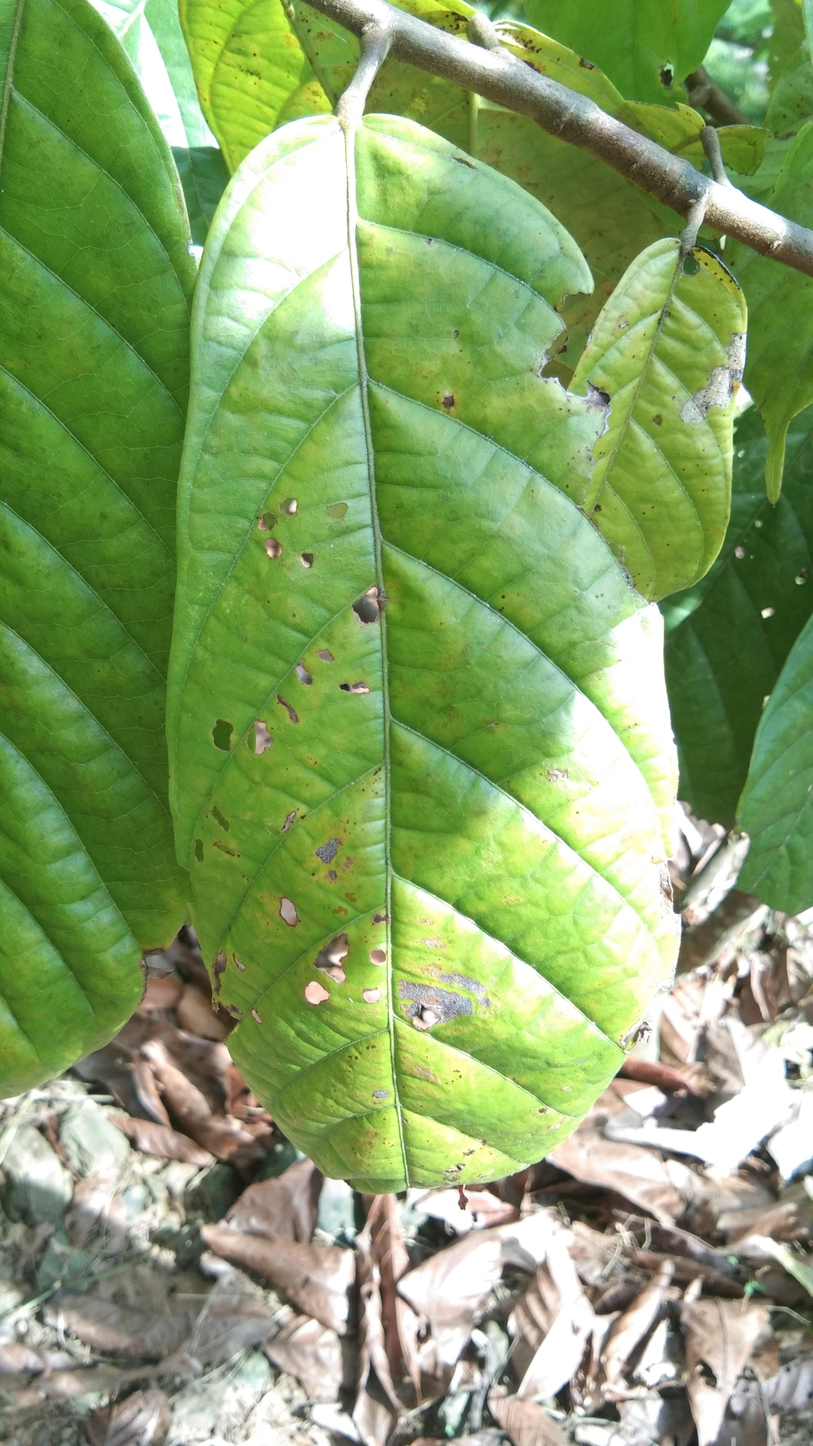deficiencia_potasio: (170, 104, 681, 1217)
